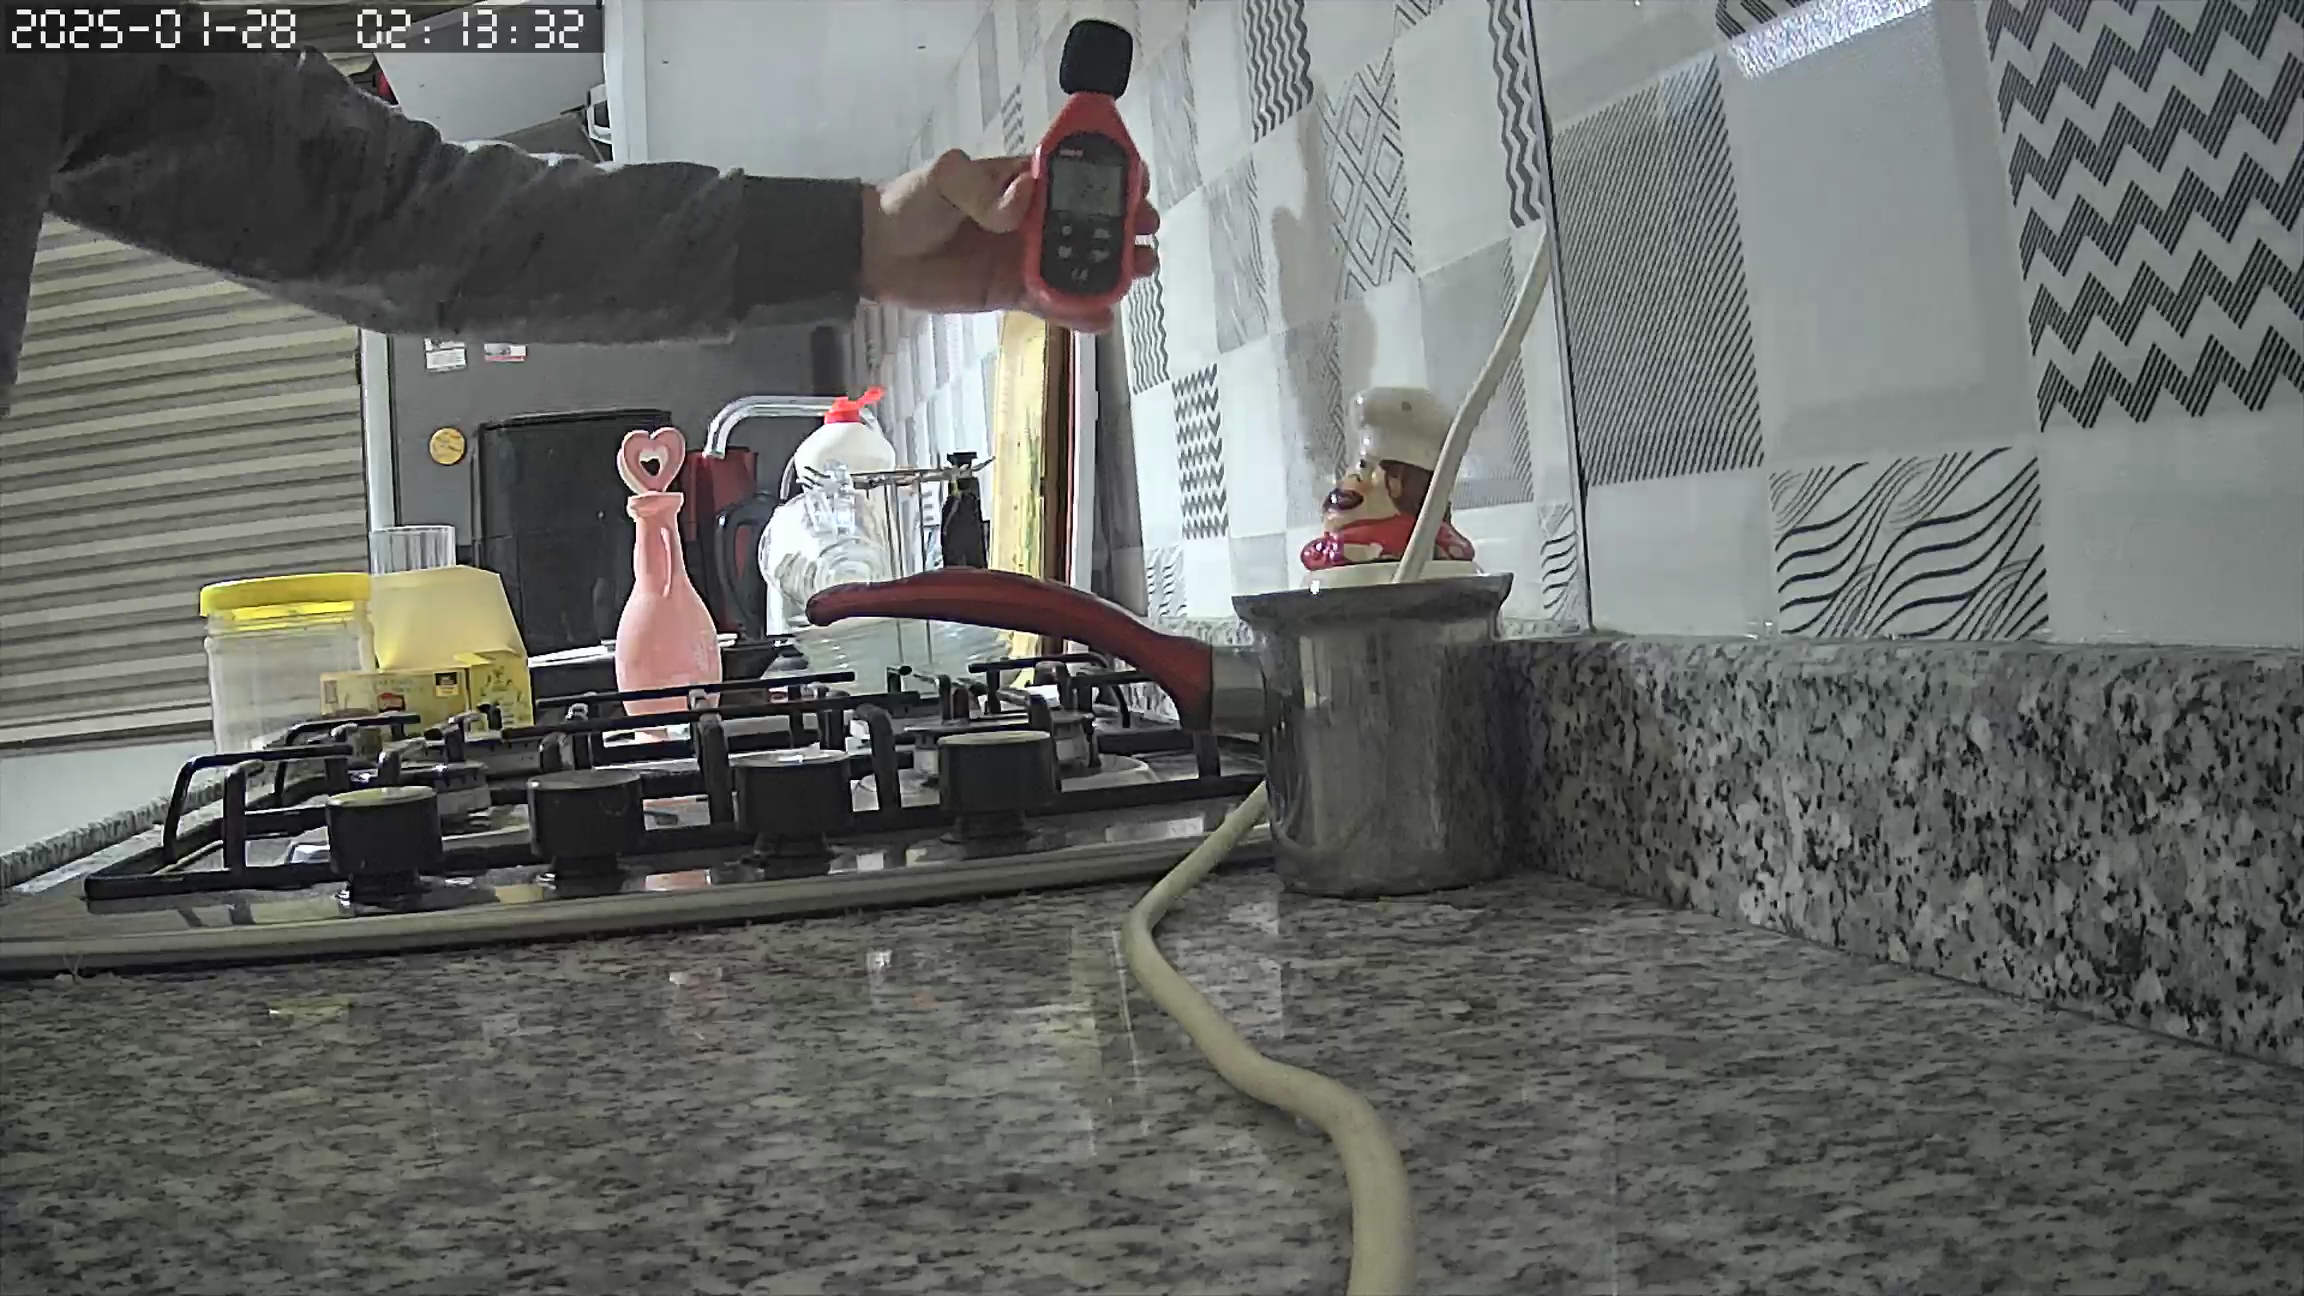screen: (1048, 160, 1127, 217)
